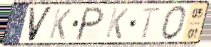K: (47, 7, 74, 41), (103, 7, 130, 41)
O: (160, 4, 190, 42)
P: (73, 5, 106, 42)
T: (140, 6, 164, 41)
V: (27, 6, 56, 43)
